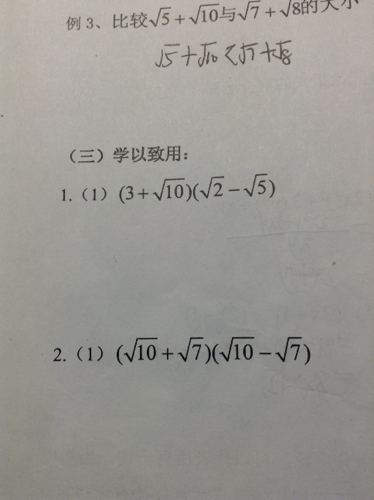sqrt: (220, 333, 256, 366), (123, 334, 160, 365), (274, 334, 304, 369), (152, 40, 184, 71), (152, 174, 187, 201), (242, 170, 269, 201), (175, 336, 204, 364), (189, 3, 223, 25), (199, 173, 225, 200), (194, 40, 218, 69), (150, 3, 175, 28)
